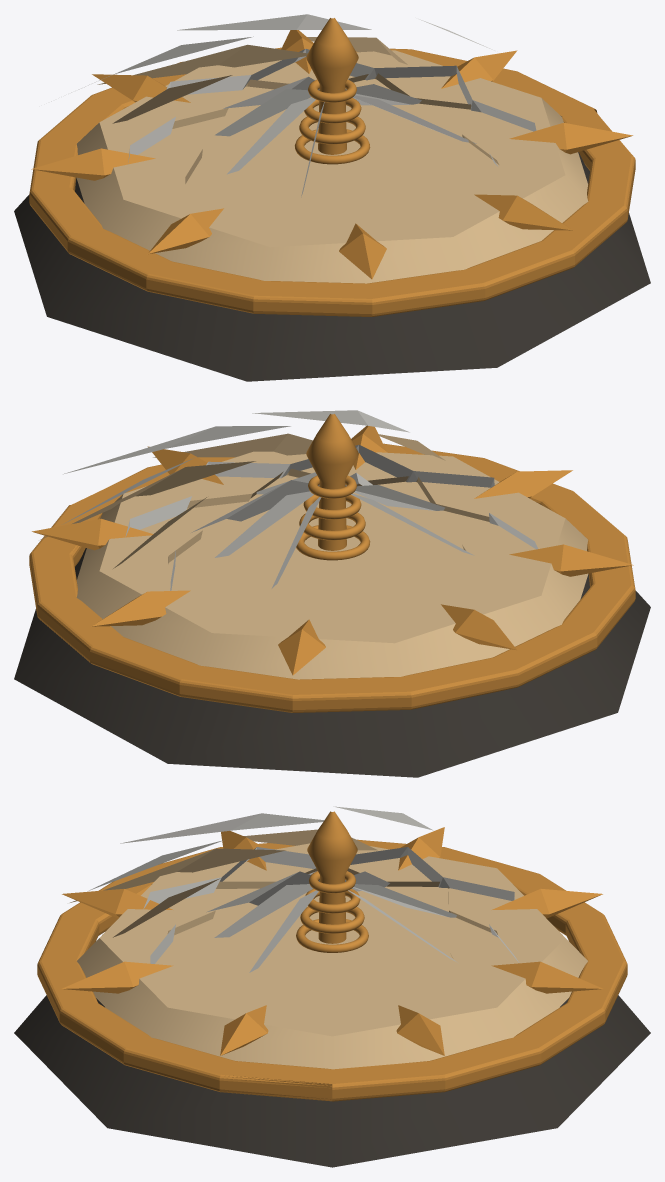
File: origami_pagoda.glb
3 views of the same model, one above another, from view 1: azimuth 30°, elevation 25°; view 2: azimuth 150°, elevation 25°; view 3: azimuth 270°, elevation 25° (orthographic). The views are drawn at different scales.
Visible parts, largest first — view 1: octa_plinth, tier2_wings, bronze_spire, tier1_shell, upper_dome; view 2: octa_plinth, tier2_wings, tier1_shell, bronze_spire, upper_dome; view 3: octa_plinth, tier2_wings, tier1_shell, bronze_spire, upper_dome.
Boxes of the visible parts, x1=… form: octa_plinth: x1=14, y1=47, x2=650, y2=381; tier2_wings: x1=31, y1=30, x2=632, y2=279; bronze_spire: x1=294, y1=18, x2=370, y2=164; tier1_shell: x1=51, y1=14, x2=536, y2=166; upper_dome: x1=215, y1=76, x2=476, y2=197; octa_plinth: x1=14, y1=443, x2=650, y2=777; tier2_wings: x1=32, y1=425, x2=633, y2=675; tier1_shell: x1=63, y1=410, x2=538, y2=590; bronze_spire: x1=296, y1=414, x2=370, y2=560; upper_dome: x1=191, y1=472, x2=474, y2=588; octa_plinth: x1=14, y1=839, x2=650, y2=1167; tier2_wings: x1=62, y1=827, x2=602, y2=1055; tier1_shell: x1=89, y1=806, x2=519, y2=963; bronze_spire: x1=296, y1=811, x2=368, y2=952; upper_dome: x1=206, y1=871, x2=457, y2=972.
Bounding box in the file's own units: 1.64 × 0.691 × 1.64.
